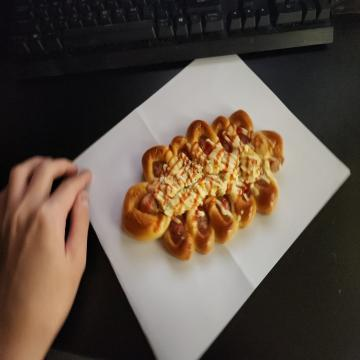pizza_bread: (124, 112, 284, 263)
